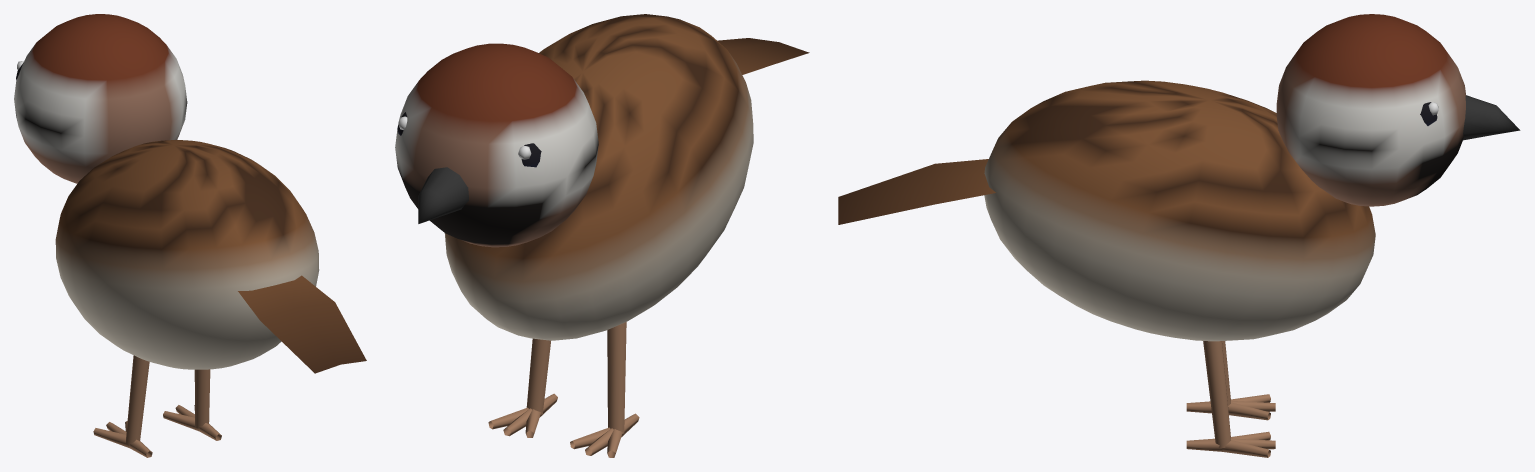
Rendered from Sparrow_Body.fbx.
3 views of the same model, side by side, from view 1: azimuth 30°, elevation 25°; view 2: azimuth 150°, elevation 25°; view 3: azimuth 270°, elevation 25° (orthographic). The views are drawn at different scales.
Visible parts, largest first — view 1: Sparrow_Body; view 2: Sparrow_Body; view 3: Sparrow_Body.
Part boxes in pixels (x1,y1,x2,y2): Sparrow_Body: (14, 14, 366, 457); Sparrow_Body: (395, 14, 809, 457); Sparrow_Body: (838, 14, 1520, 457).
Bounding box in the file's own units: 1.87 × 3.34 × 5.06.
